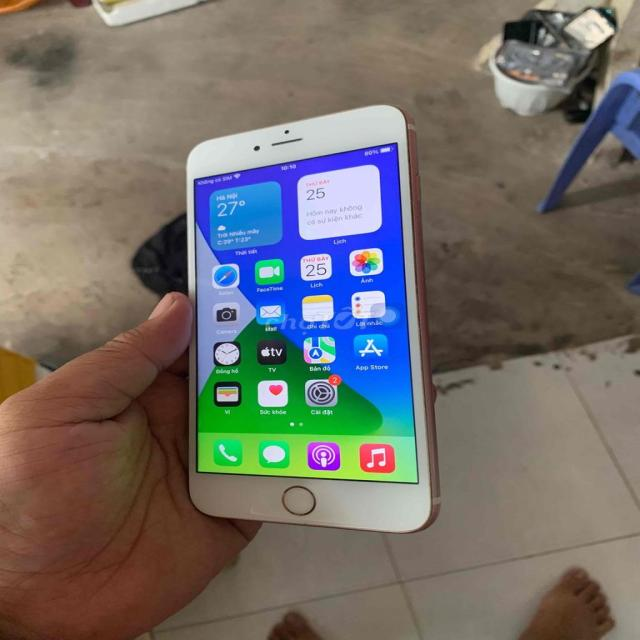gen_6: (176, 100, 450, 535)
